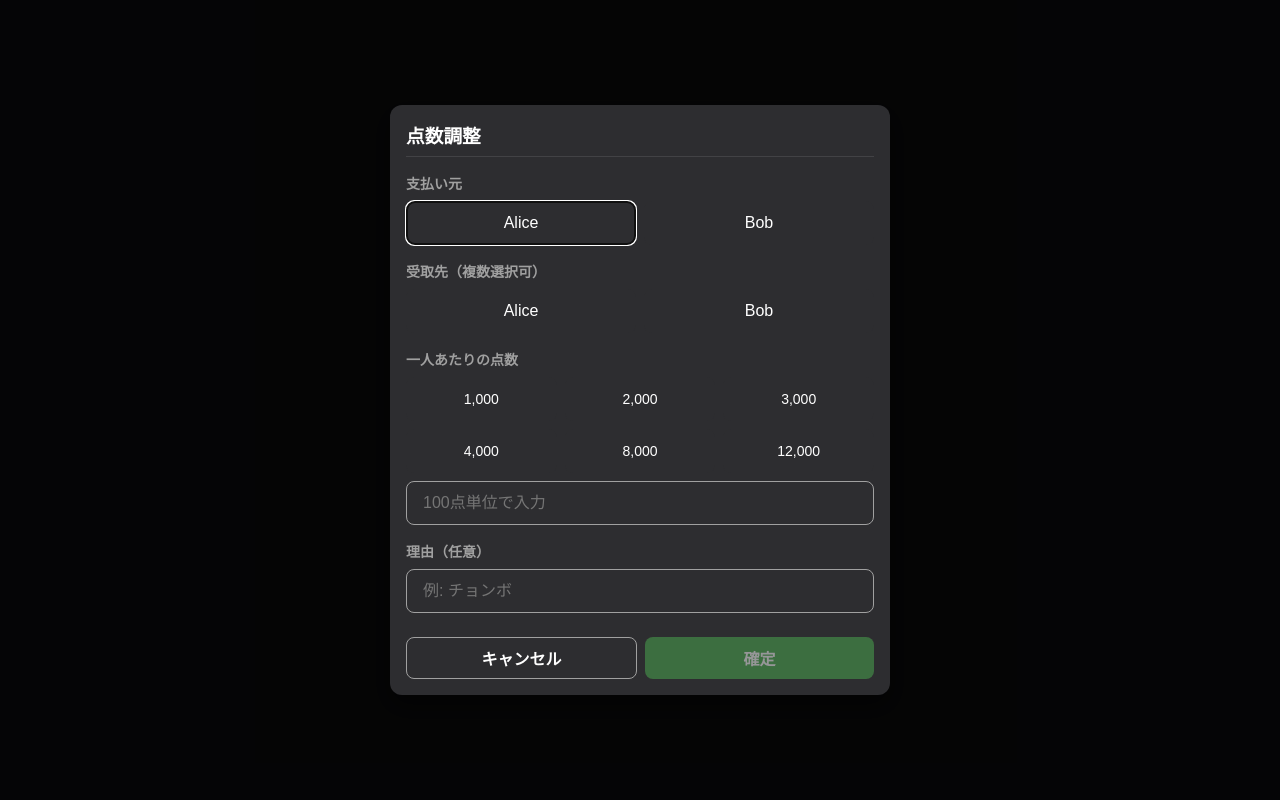
Test: AdjustmentModal › resets the transfer when cancelled
Click the button "Alice" below "支払い元" at (521, 223), box [406,201,636,245]
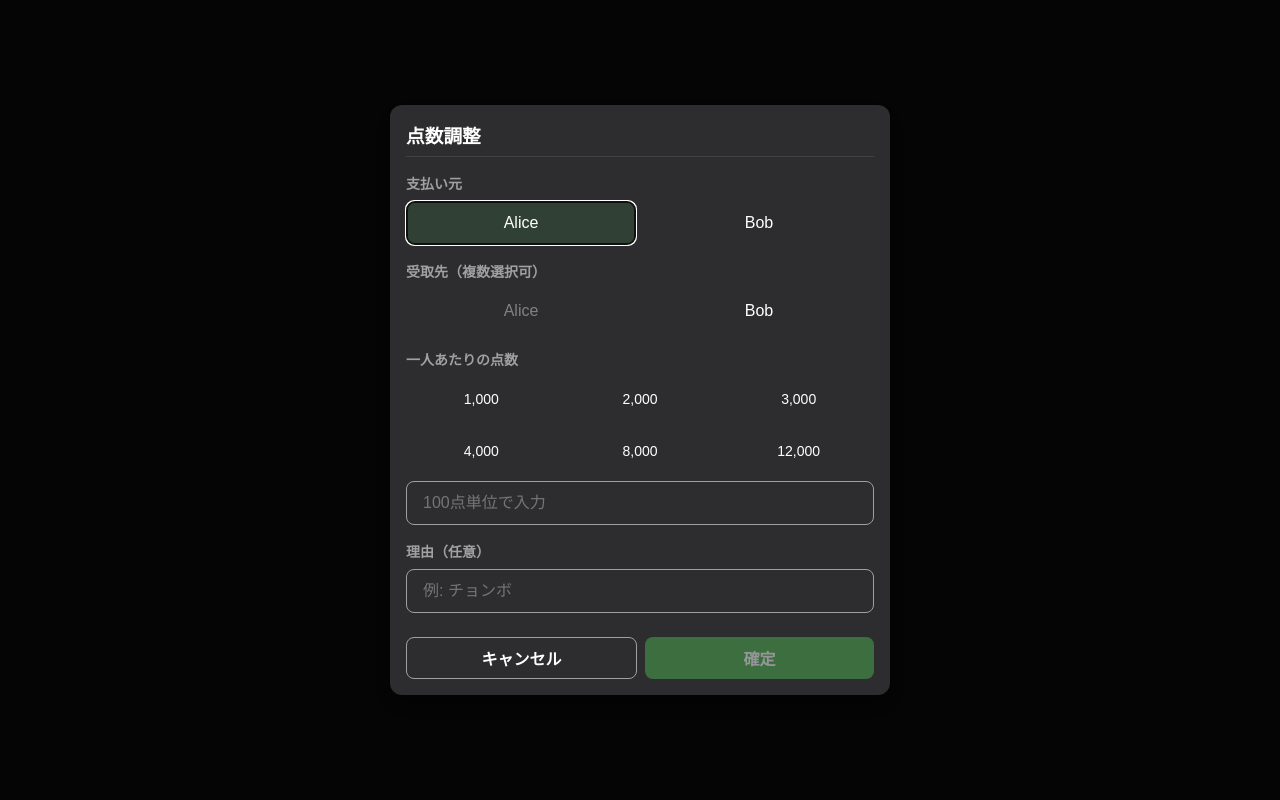
Click the button "Bob" below "受取先（複数選択可）" at (759, 311), box [644,289,874,333]
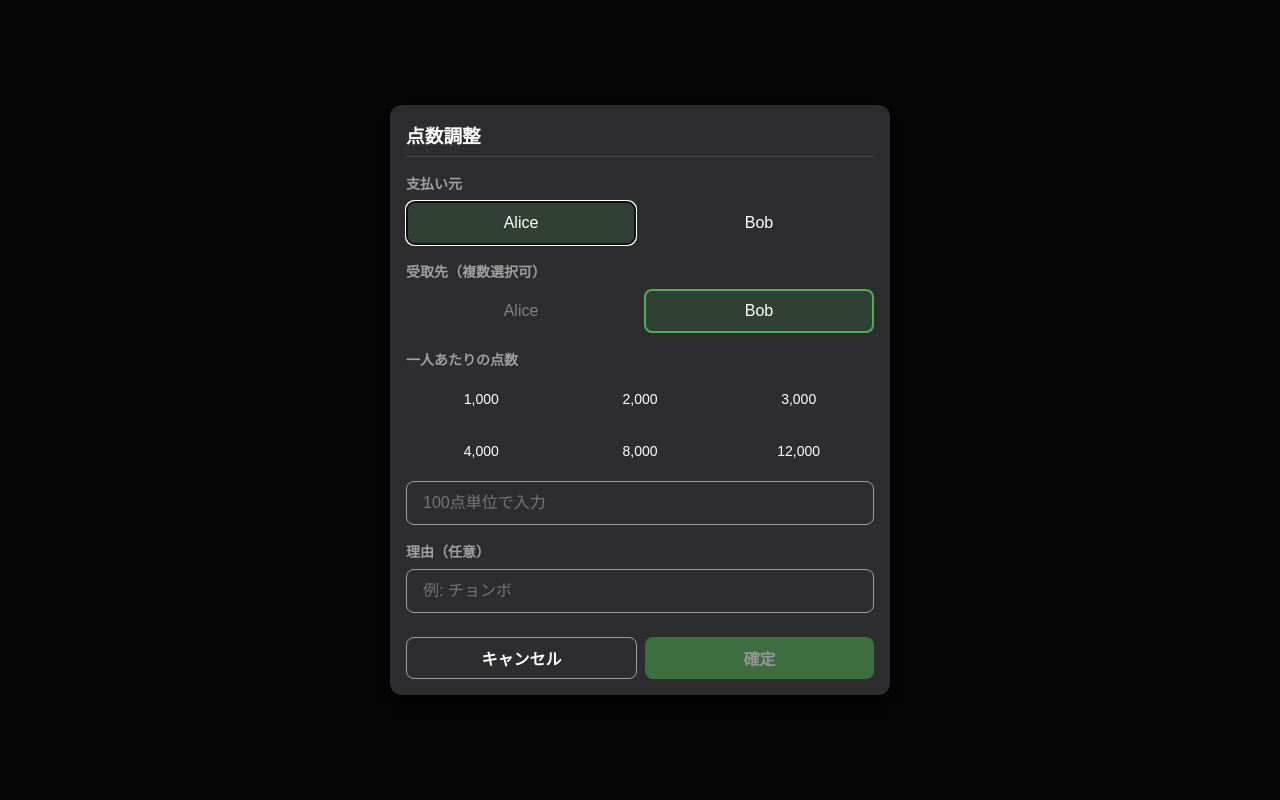
Type "500" into the number field labelled "一人あたりの点数" at (640, 503), box [406,481,874,525]
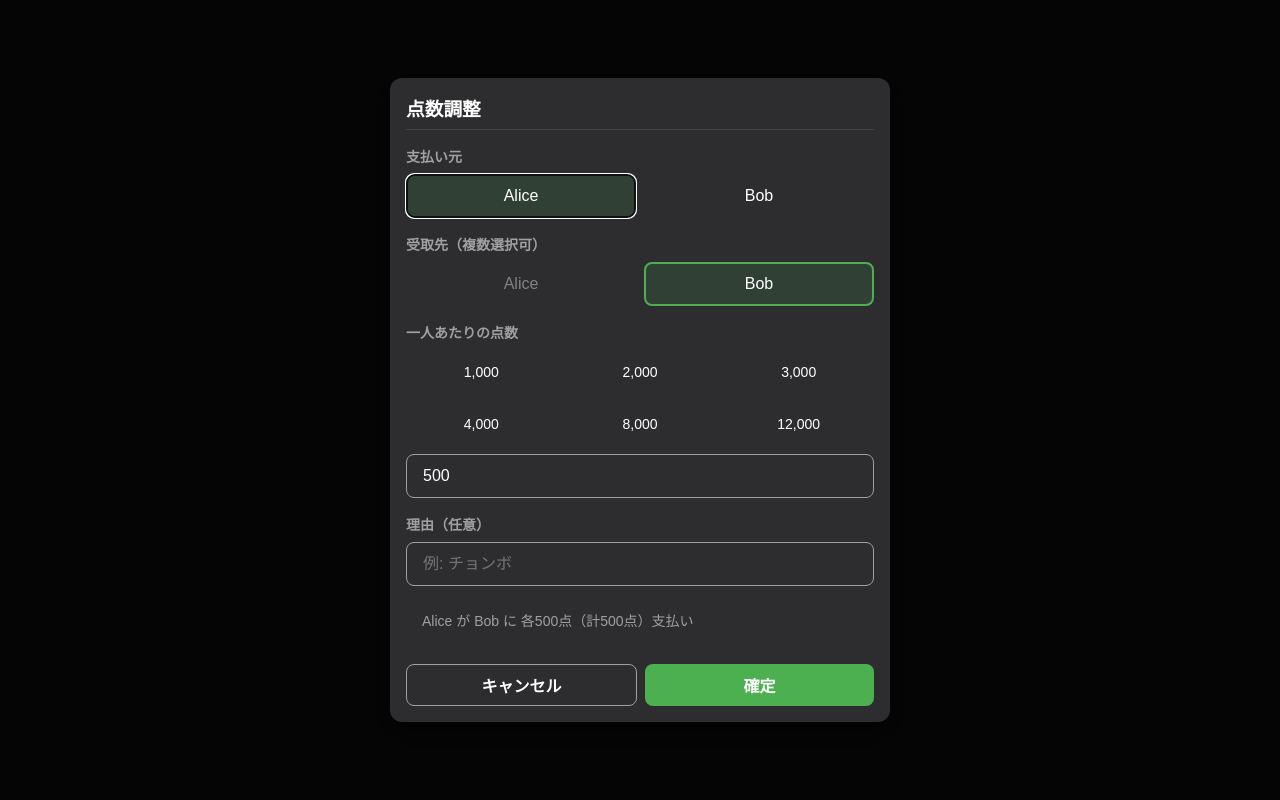
Click the button "キャンセル" at (522, 685), box [406,664,637,706]
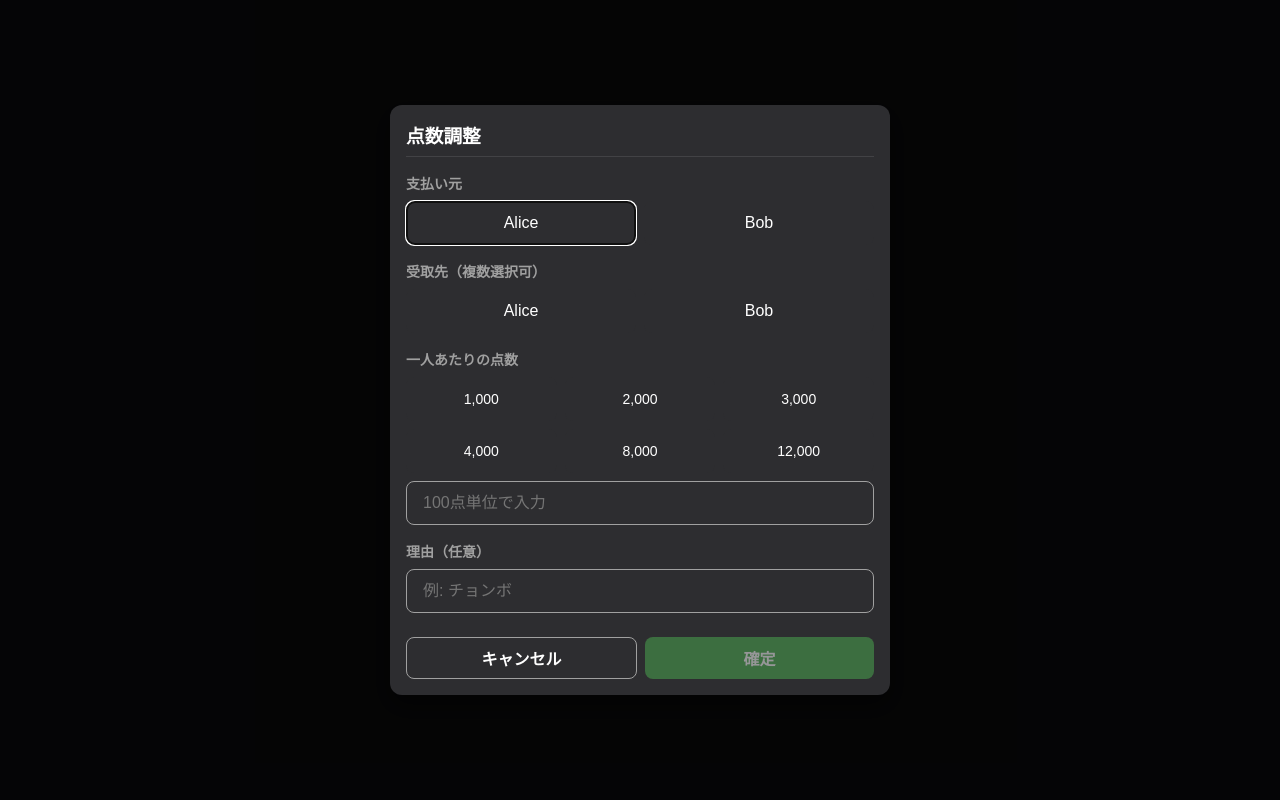
Expected: the button "確定" is disabled, [645,637,874,679]
